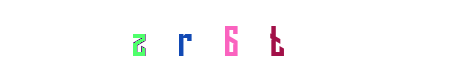6: (186, 0, 266, 80)
R: (185, 0, 265, 80)
T: (193, 0, 273, 80)
Z: (98, 0, 178, 80)
